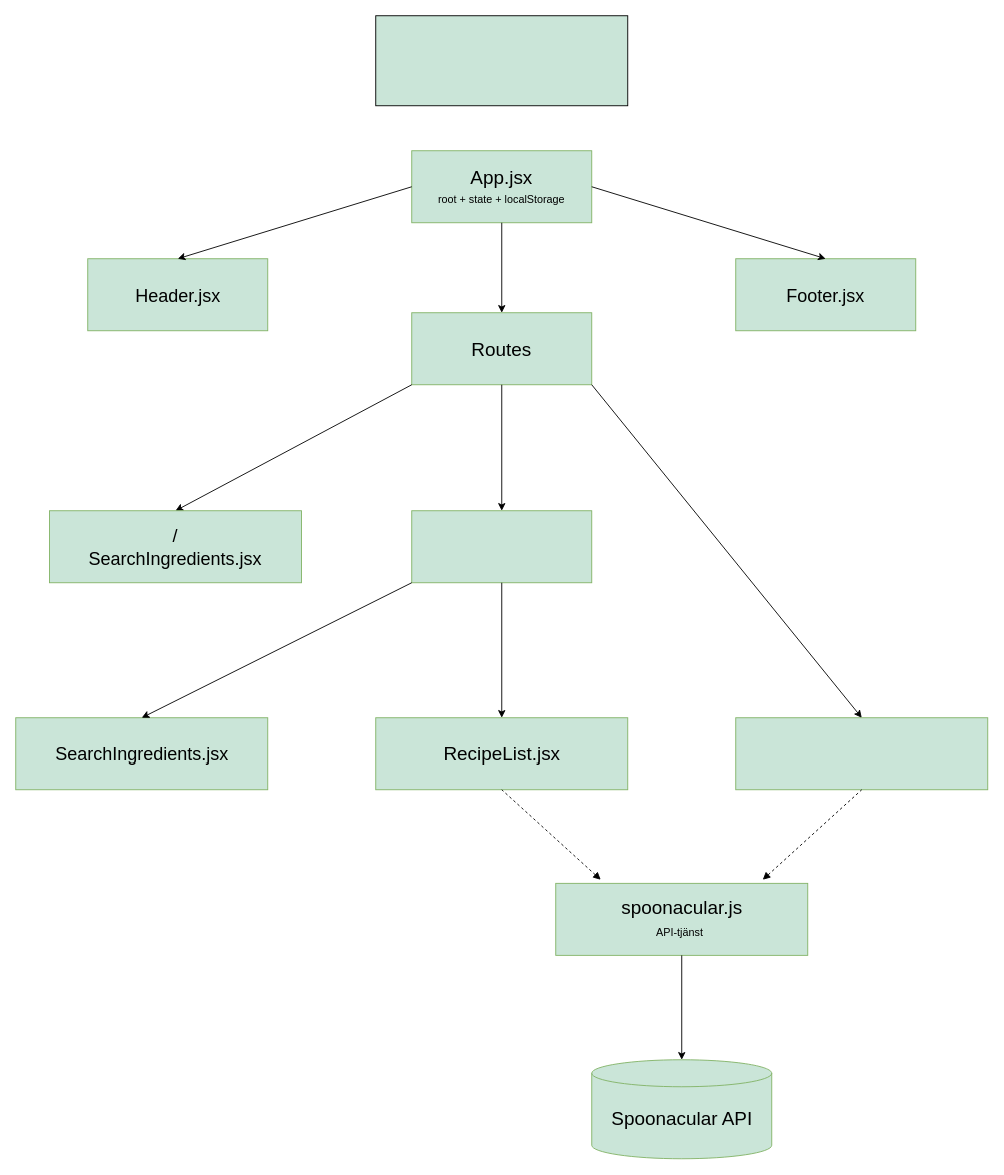
The diagram is 1004 pixels wide and 1175 high, and some of its shapes have lost their labels. The centre of each missing label's shape, as x and y in pixels:
/recipes: pixel 501 546
/recipes/:id RecipeDetails.jsx: pixel 861 753
Project Fridge: pixel 501 60
